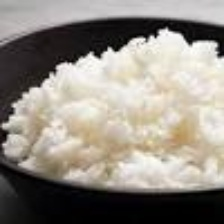rice: (1, 27, 224, 190)
